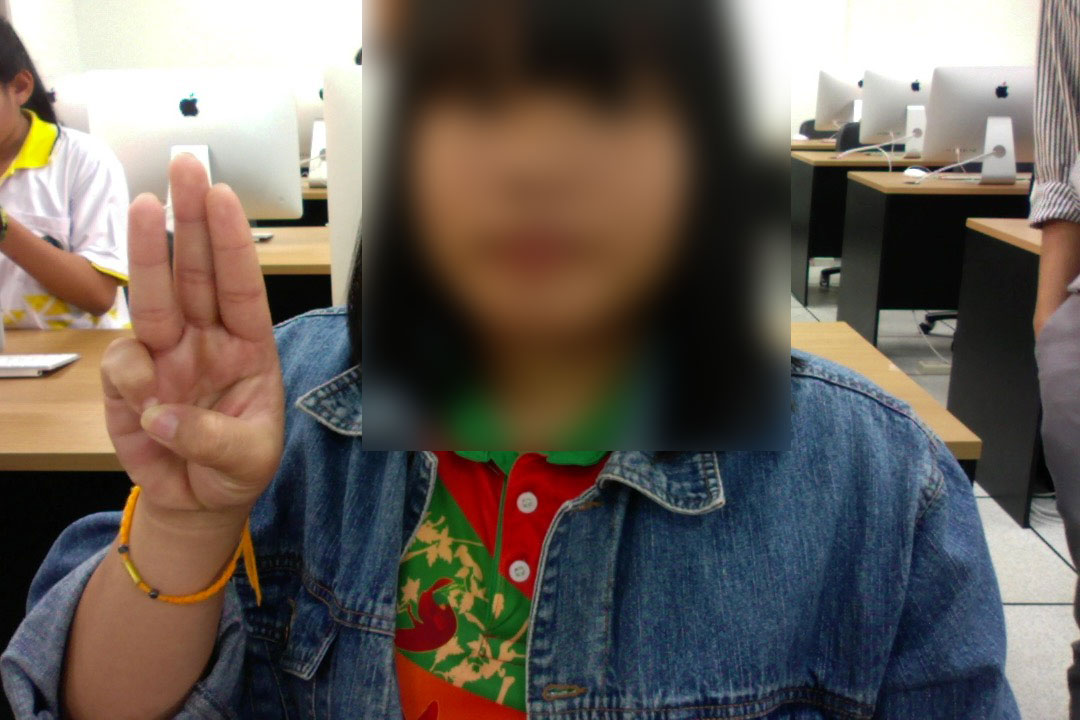wor: (84, 151, 296, 530)
